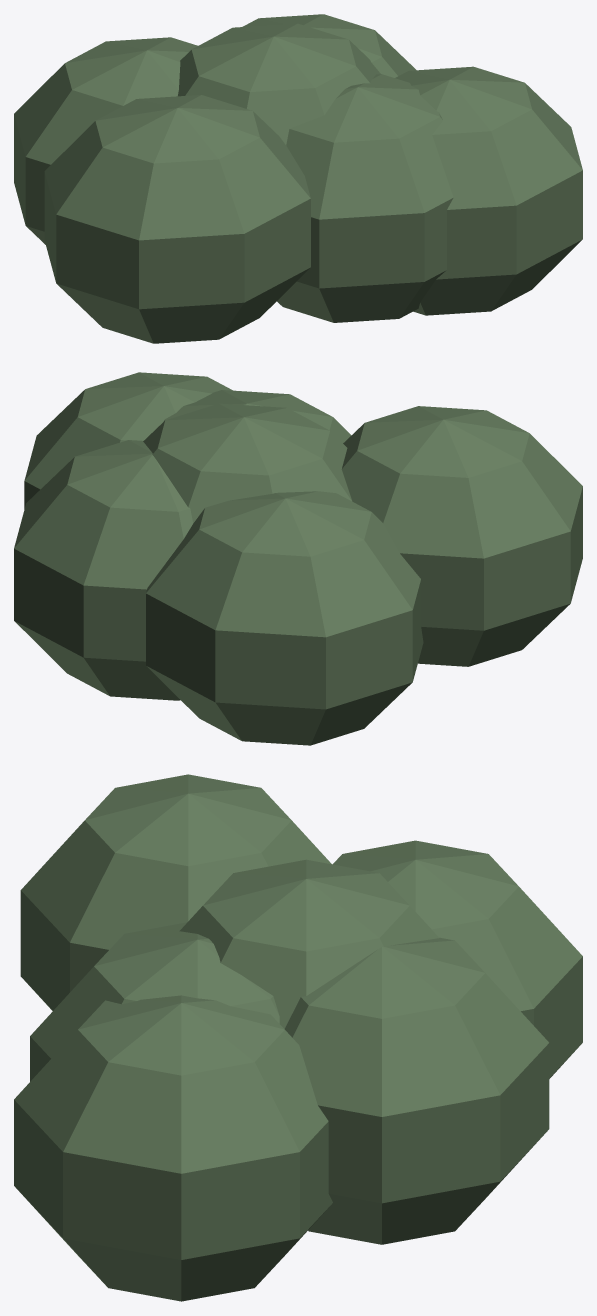
The model's file is Food_BerryBush_Used.fbx.
3 renders of one model, top to bottom at view 1: azimuth 30°, elevation 25°; view 2: azimuth 150°, elevation 25°; view 3: azimuth 270°, elevation 25°, orthographic. The views are drawn at different scales.
Visible parts, largest first — view 1: Res_Food_BerryBush_Used; view 2: Res_Food_BerryBush_Used; view 3: Res_Food_BerryBush_Used.
Part boxes in pixels (bbox=[...]): Res_Food_BerryBush_Used: bbox=[14, 14, 582, 343]; Res_Food_BerryBush_Used: bbox=[14, 372, 582, 745]; Res_Food_BerryBush_Used: bbox=[14, 774, 582, 1301].
Size of the model in its own units: 1.68 by 0.8177 by 1.29.
